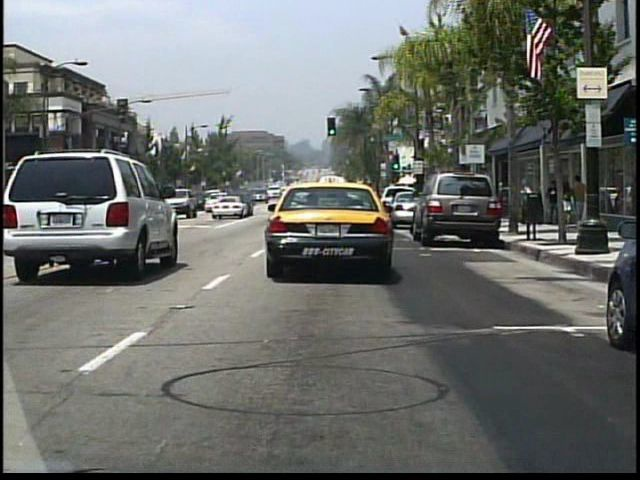person: (572, 172, 592, 232), (544, 176, 561, 225), (563, 176, 575, 230)
